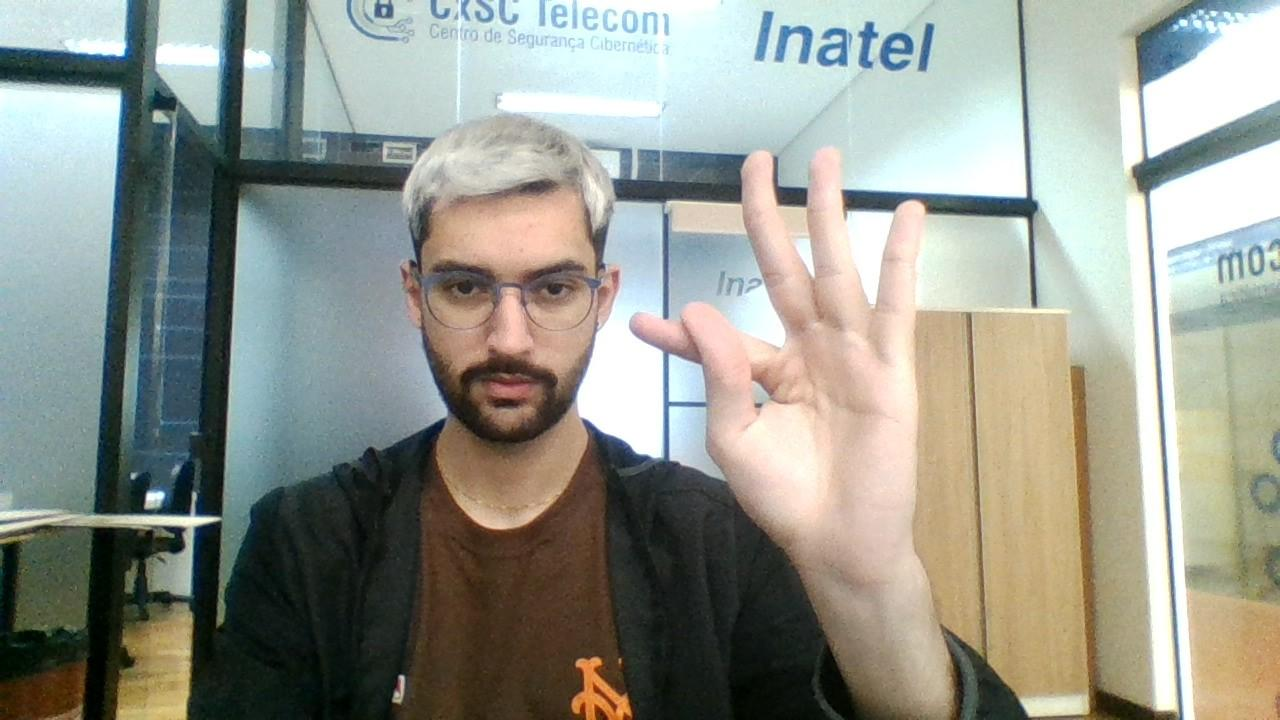T: (622, 144, 934, 564)
